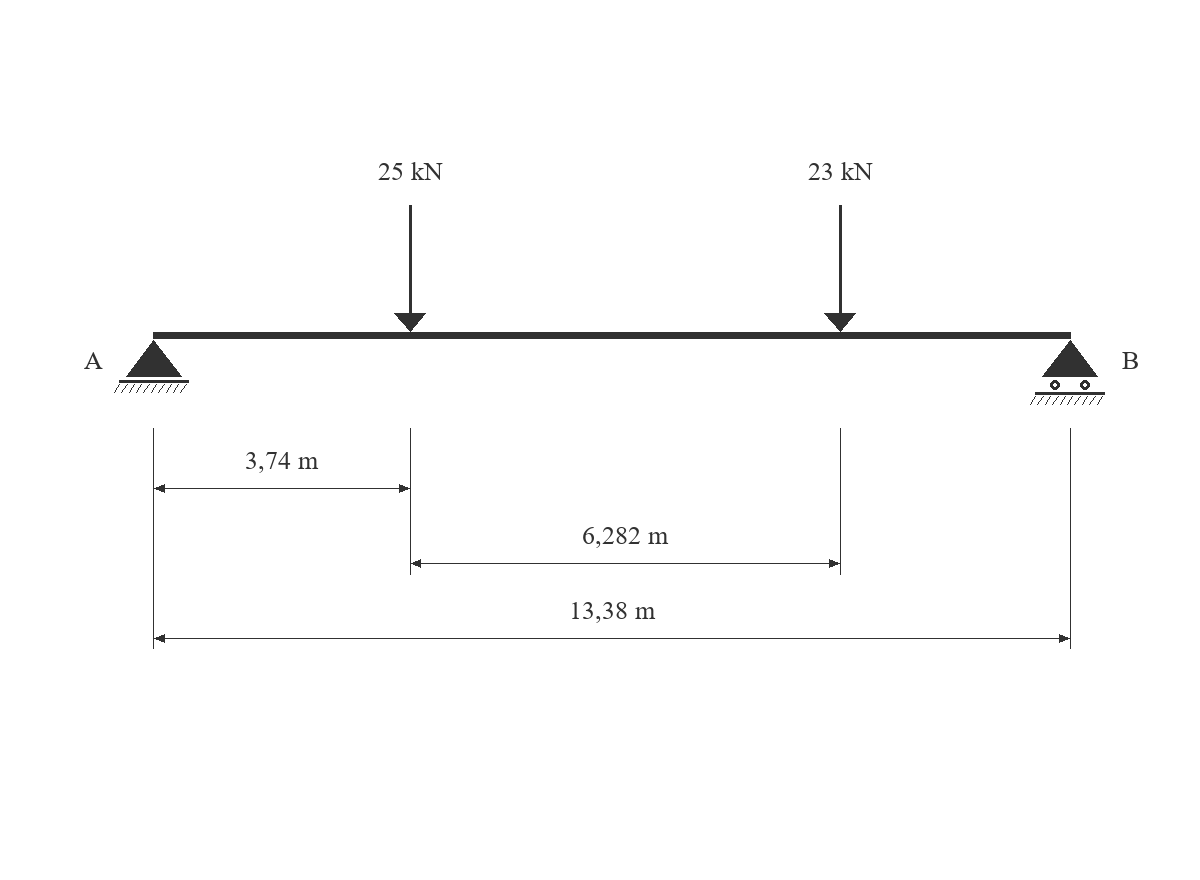pin_support: (114, 340, 189, 393)
point_load: (394, 205, 426, 332), (824, 205, 856, 332)
roller_support: (1030, 340, 1105, 405)
